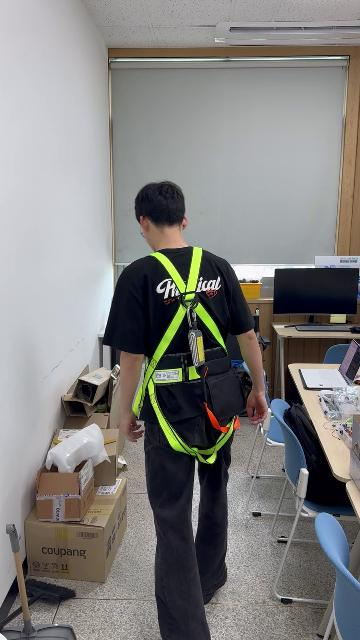helmet_not_worn: (133, 179, 189, 228)
vest_worn: (133, 253, 241, 456)
